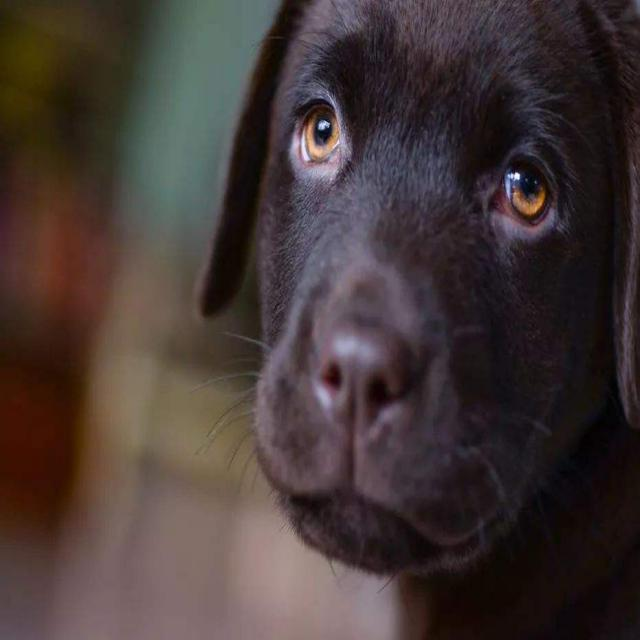eye: (490, 144, 560, 236), (296, 95, 345, 171)
